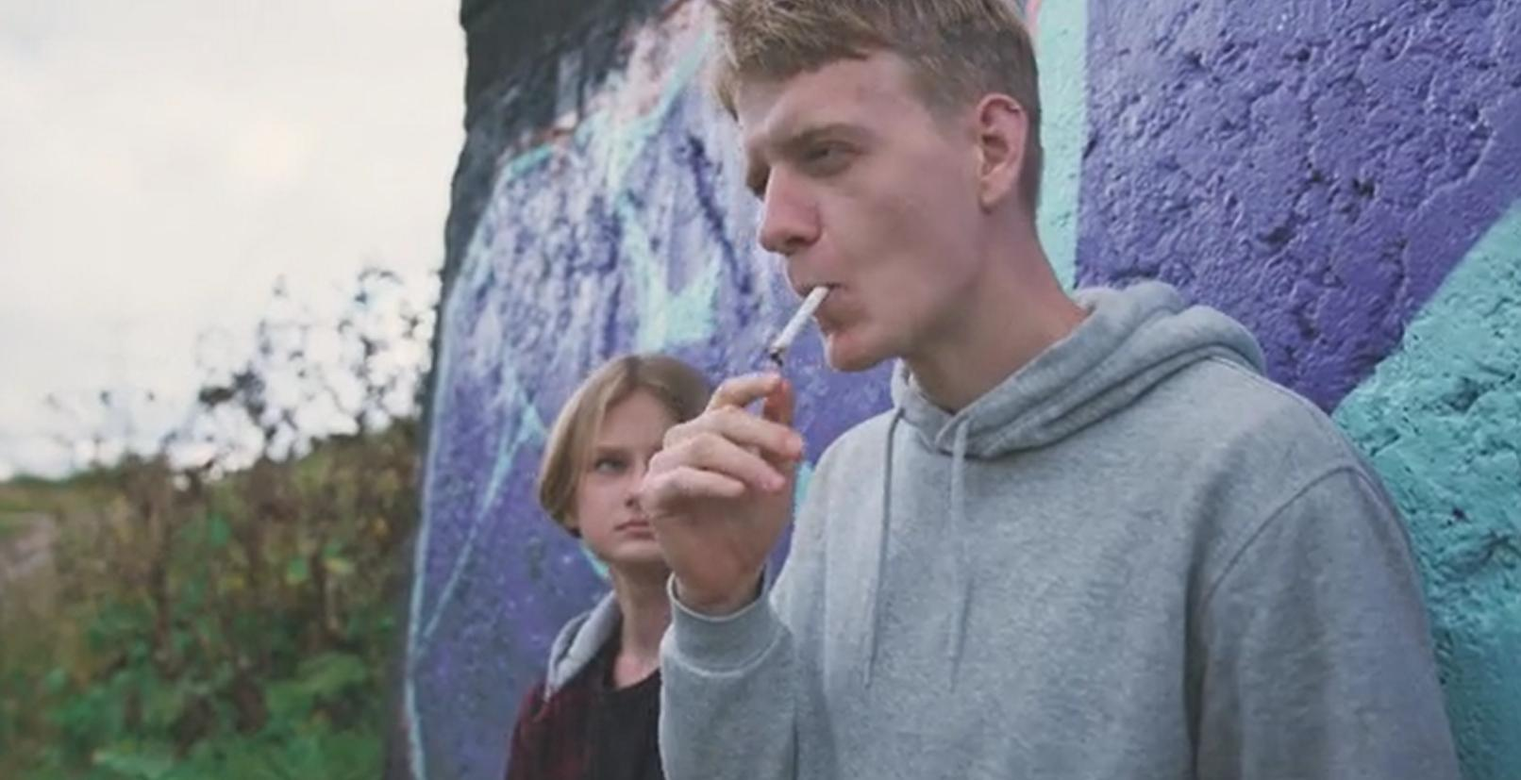smoker: (519, 0, 1154, 589)
